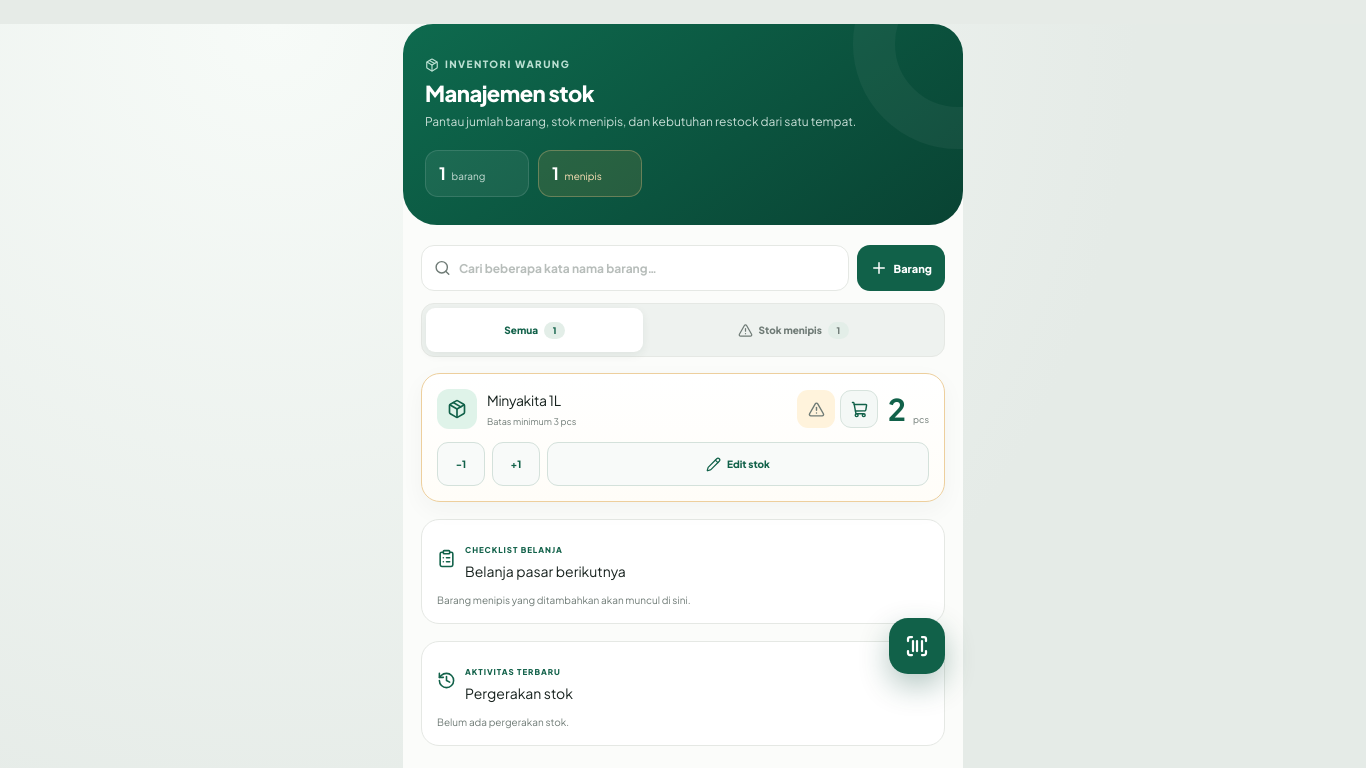
Test case: InventoryDashboard › shows a detailed stock form for an unregistered barcode
Click the button named "Scan barcode stok" at (917, 646), box 889,618 -> 945,674
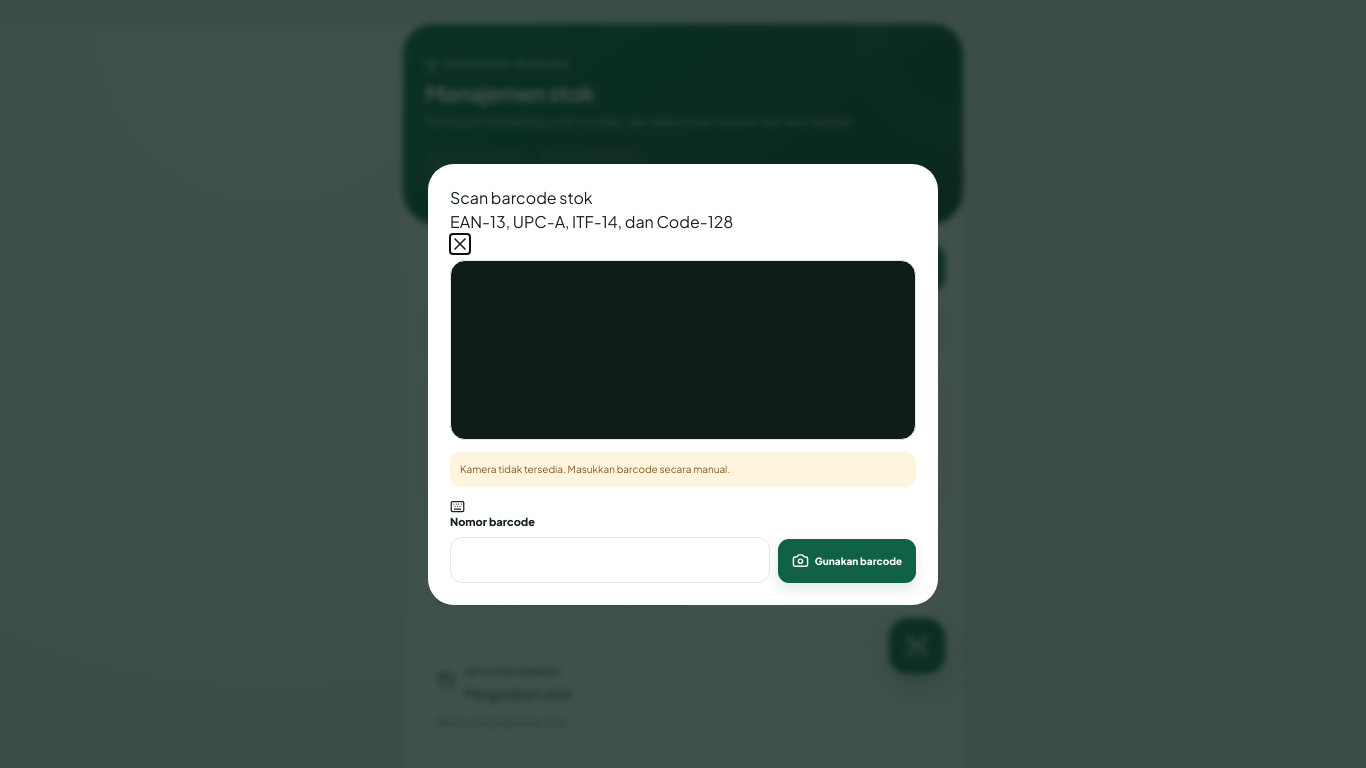
Type "new-barcode" into the field labelled "Nomor barcode" at (610, 560), box 450,537 -> 770,582
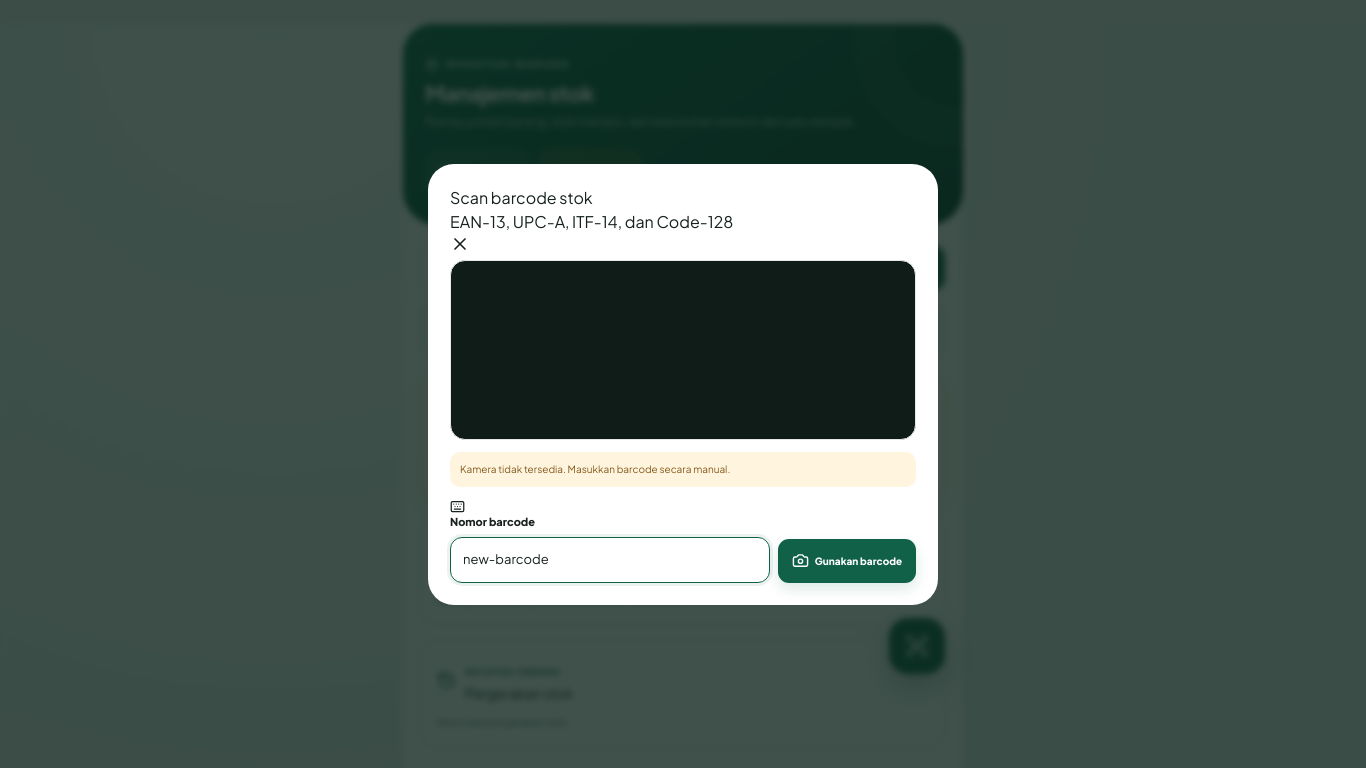
Click the button "Gunakan barcode" at (847, 560), box 778,538 -> 916,582
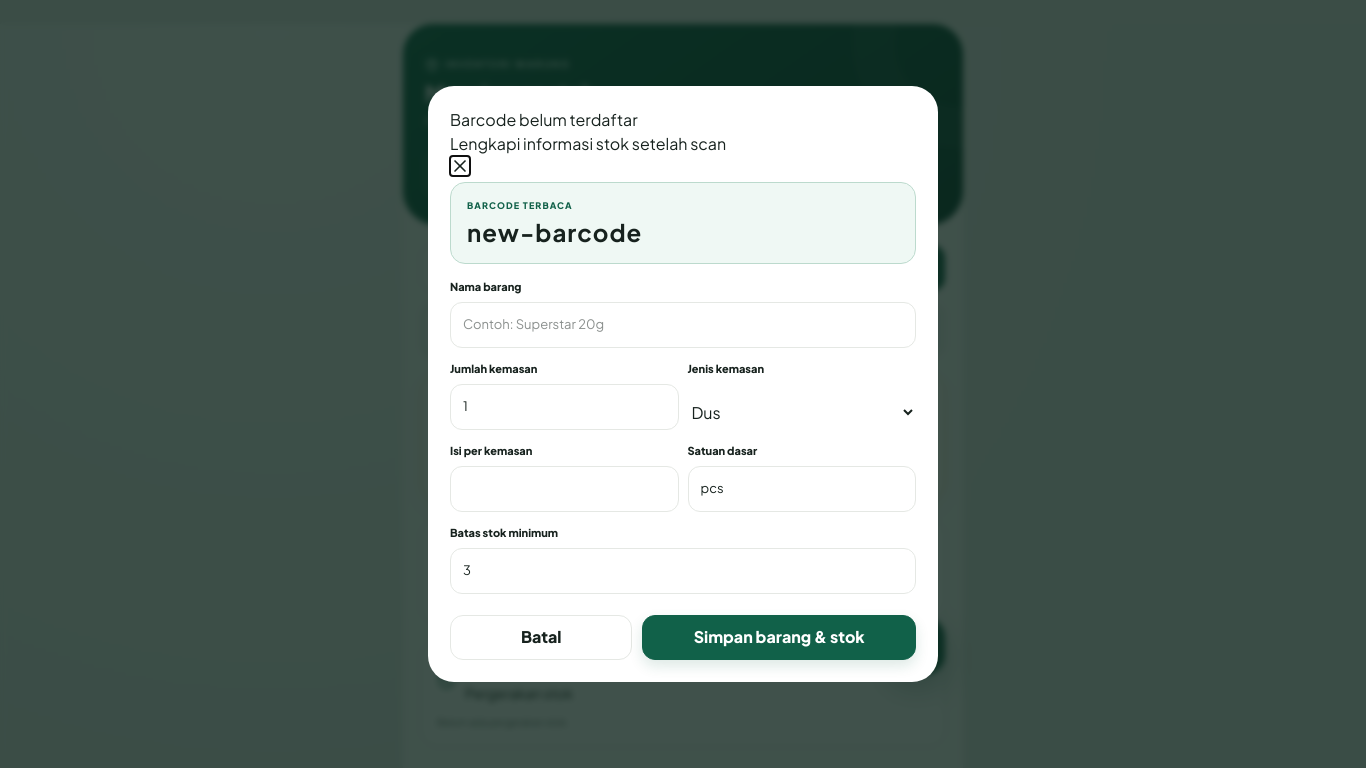
Result: the field named "Nama barang baru" is shown at 450,302 -> 916,348
Result: the dropdown labelled "Jenis kemasan" is shown at 688,395 -> 916,430
Result: the number field labelled "Isi per kemasan" is shown at 450,466 -> 678,512
